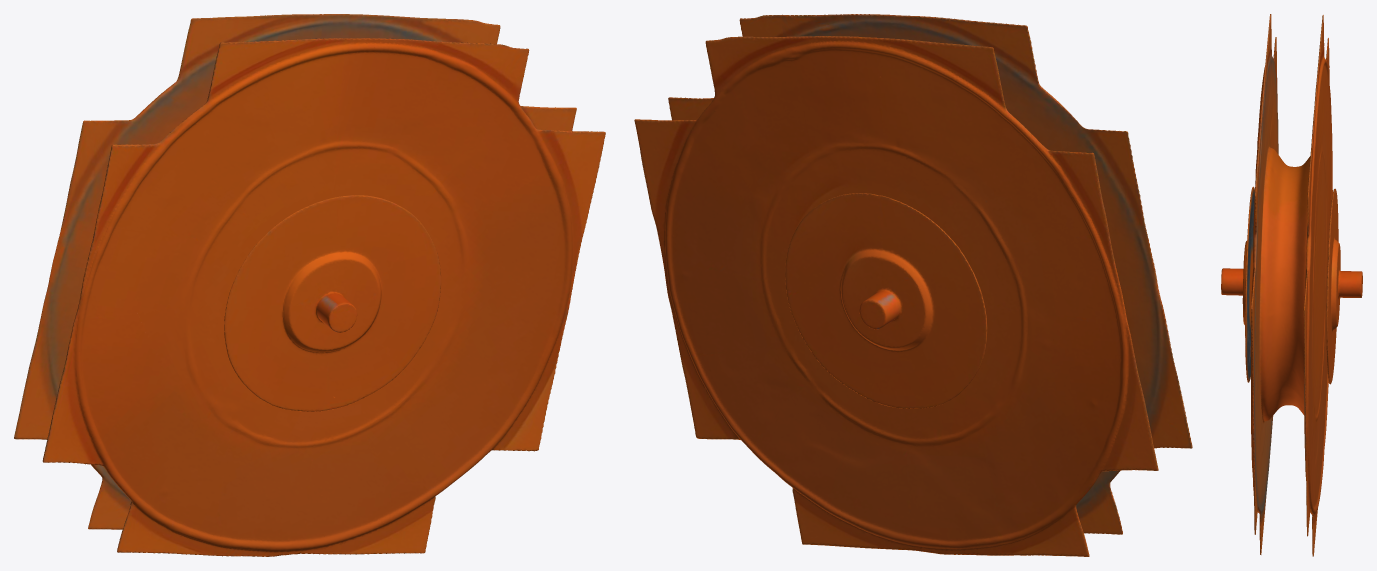
Rendered from rmutr.glb.
3 renders of one model, left to right at view 1: azimuth 30°, elevation 25°; view 2: azimuth 150°, elevation 25°; view 3: azimuth 270°, elevation 25°, orthographic. The views are drawn at different scales.
Parts seen in each view (by area): view 1: tripo_node_db08ba9a; view 2: tripo_node_db08ba9a; view 3: tripo_node_db08ba9a.
Part boxes in pixels (box(x1,y1,x2,y2)): tripo_node_db08ba9a: box(14, 14, 605, 556); tripo_node_db08ba9a: box(634, 14, 1192, 556); tripo_node_db08ba9a: box(1221, 14, 1362, 556).
Bounding box in the file's own units: 1 × 0.9698 × 0.2697.
1 material, 1 textured.
